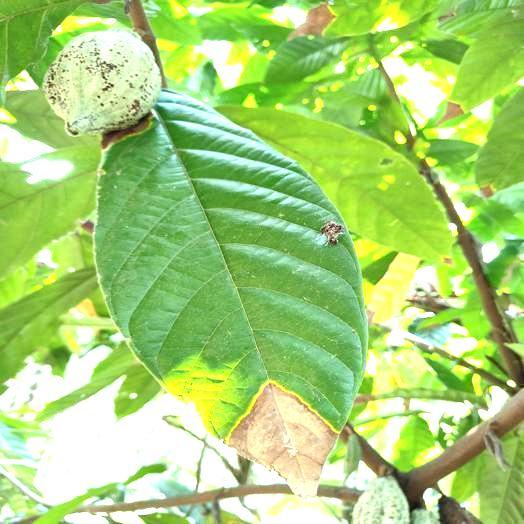Potassium: (95, 90, 367, 494)
